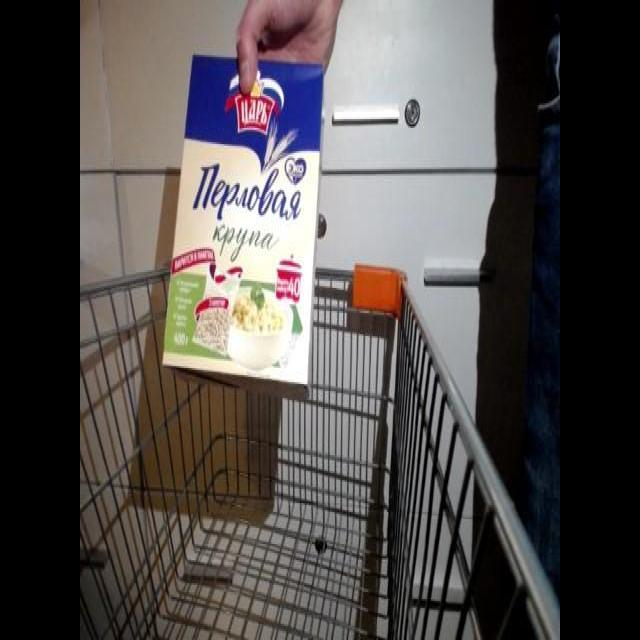Groats: (160, 41, 328, 403)
